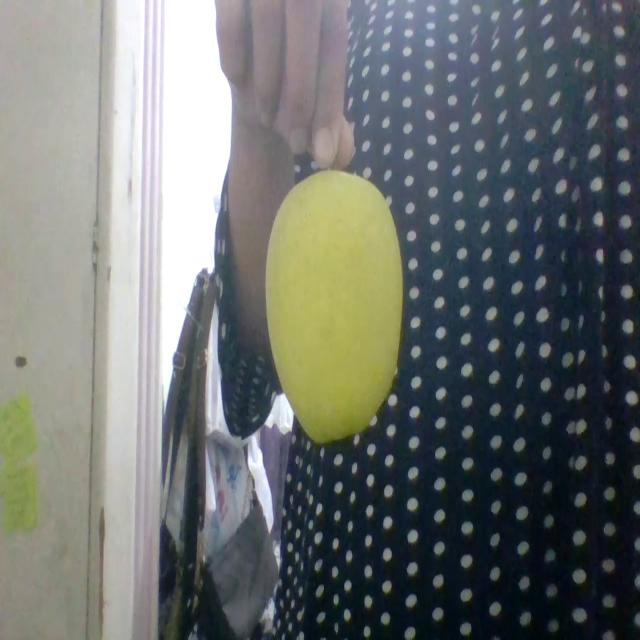50-_ripeness: (264, 171, 402, 441)
